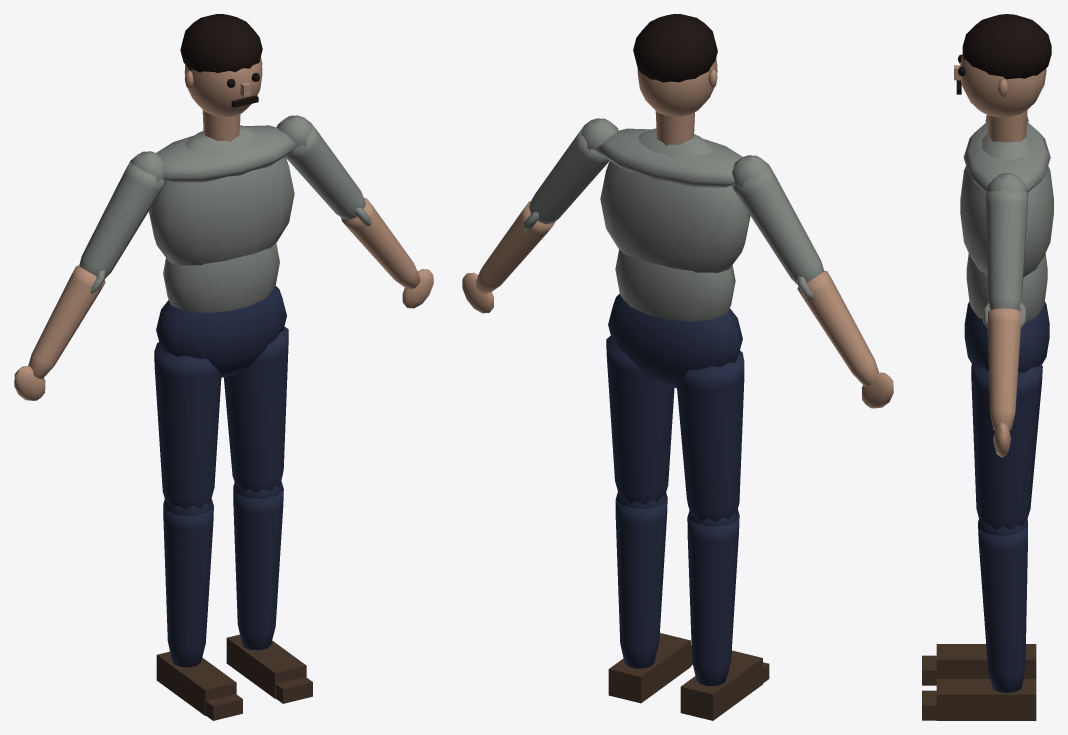
File: Elio.obj
3 views of the same model, side by side, from view 1: azimuth 30°, elevation 25°; view 2: azimuth 150°, elevation 25°; view 3: azimuth 270°, elevation 25° (orthographic). The views are drawn at different scales.
Parts seen in each view (by area): view 1: Elio; view 2: Elio; view 3: Elio.
Boxes of the visible parts, x1,y1,x2,y2 form: Elio: [14, 14, 433, 720]; Elio: [462, 14, 893, 720]; Elio: [922, 14, 1053, 720].
Bounding box in the file's own units: 1.22 × 1.83 × 0.323.
